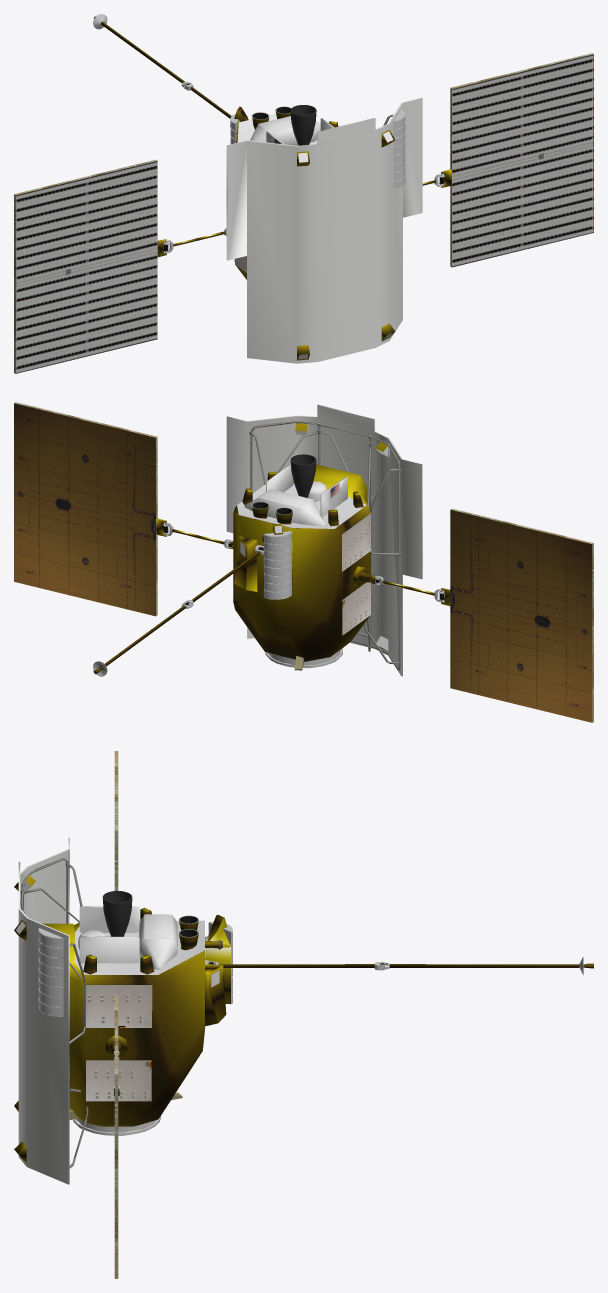
File: messenger_lod1.glb
3 views of the same model, one above another, from view 1: azimuth 30°, elevation 25°; view 2: azimuth 150°, elevation 25°; view 3: azimuth 270°, elevation 25° (orthographic). The views are drawn at different scales.
Visible parts, largest first — view 1: messenger_lod1; view 2: messenger_lod1; view 3: messenger_lod1.
Part boxes in pixels (left/top/right/bottom): messenger_lod1: left=14, top=14, right=593, bottom=373; messenger_lod1: left=14, top=402, right=593, bottom=722; messenger_lod1: left=14, top=751, right=593, bottom=1278.
Bounding box in the file's own units: 6.59 × 2.5 × 5.
Materials: 10 (5 with a texture image).
